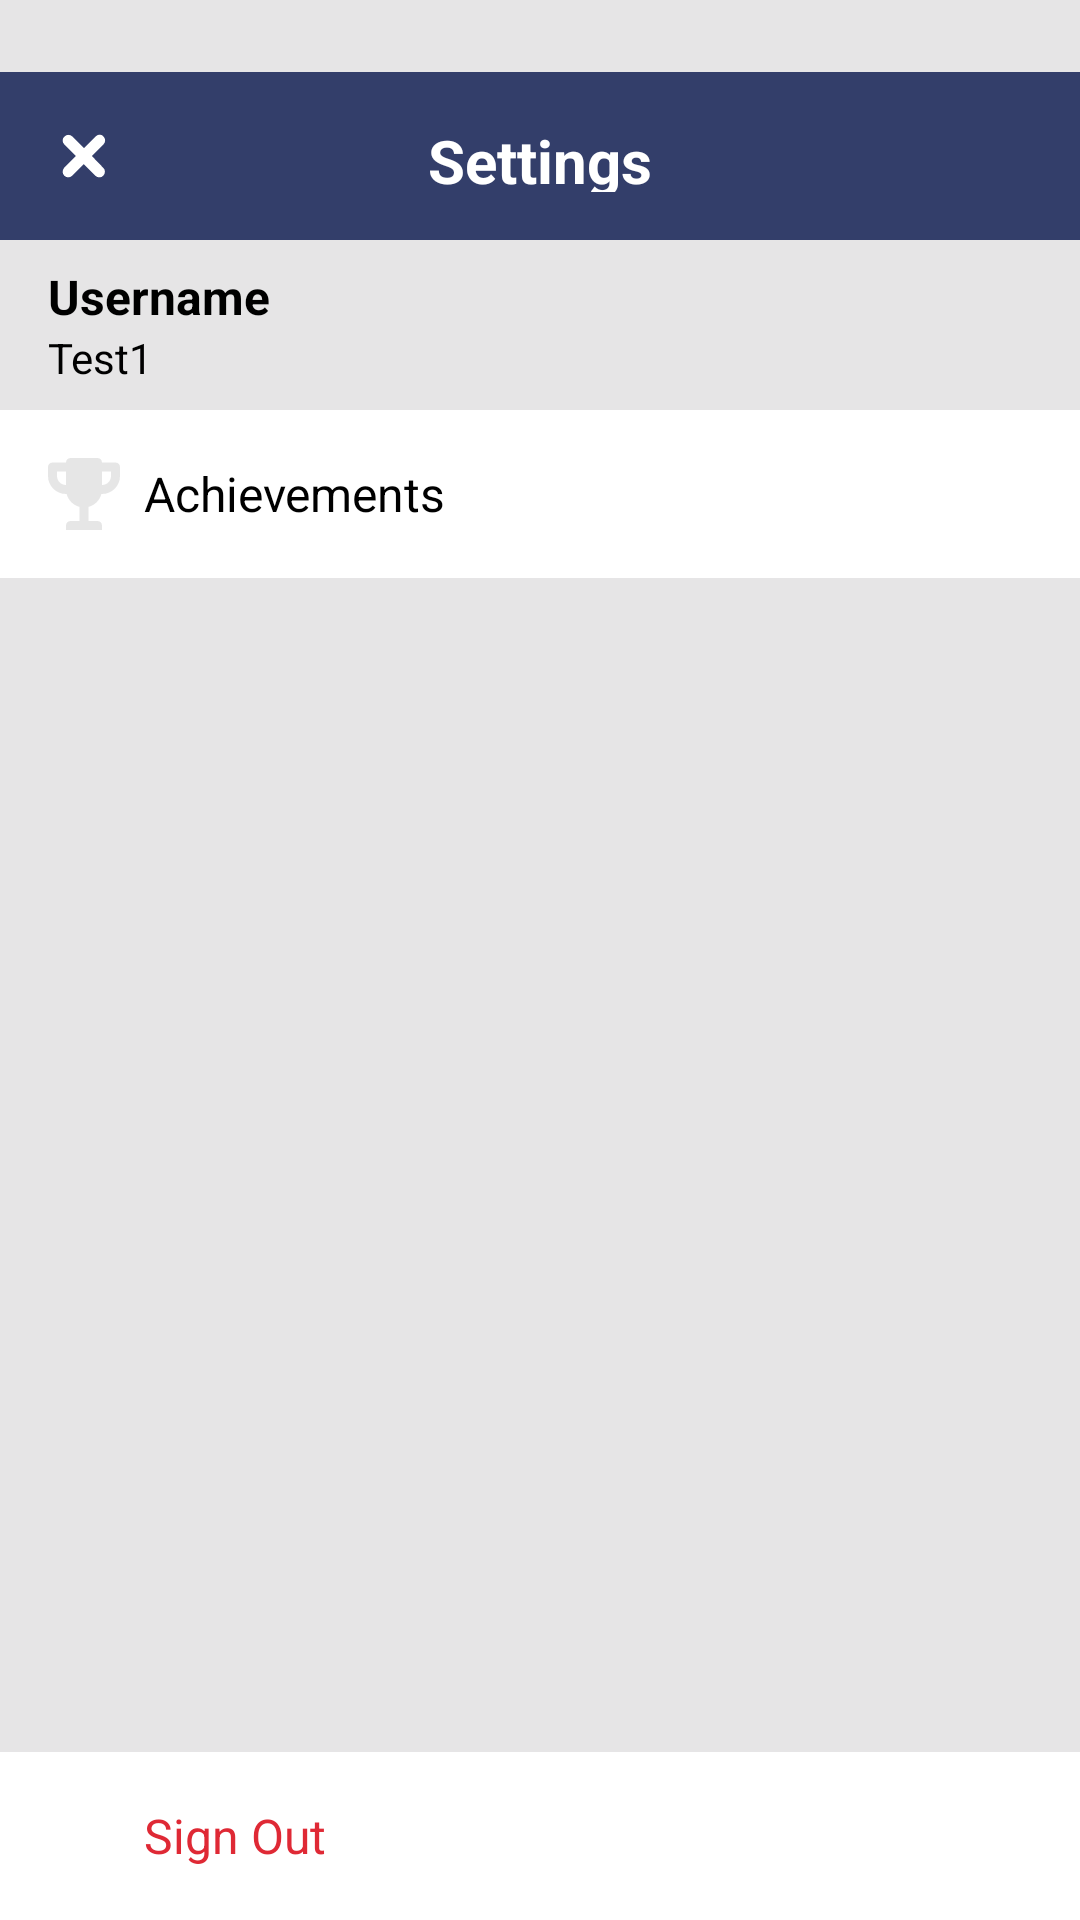

Where icons sit on this 1080 x 1920 app screen, as (x1, y1, x2, y2):
close: (62, 134, 105, 178)
